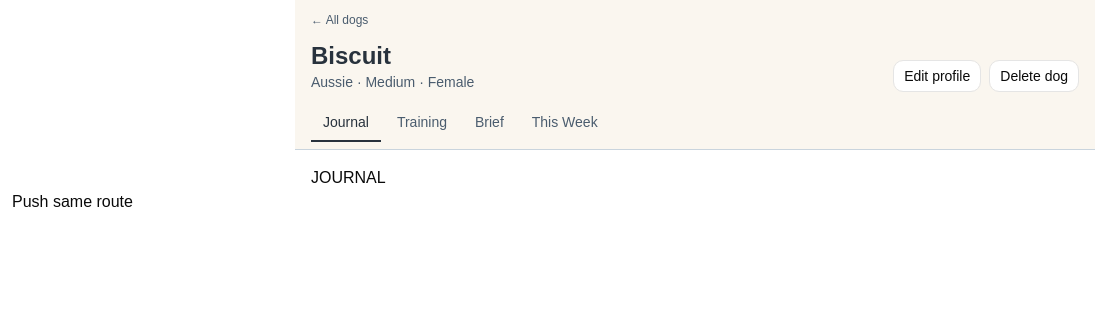
Test: DogLayout › shows inline recovery for an active guided setup deletion conflict
This screenshot has width=1112, height=322.
Click the button "Delete dog" at (1034, 76), box [989,60,1079,92]
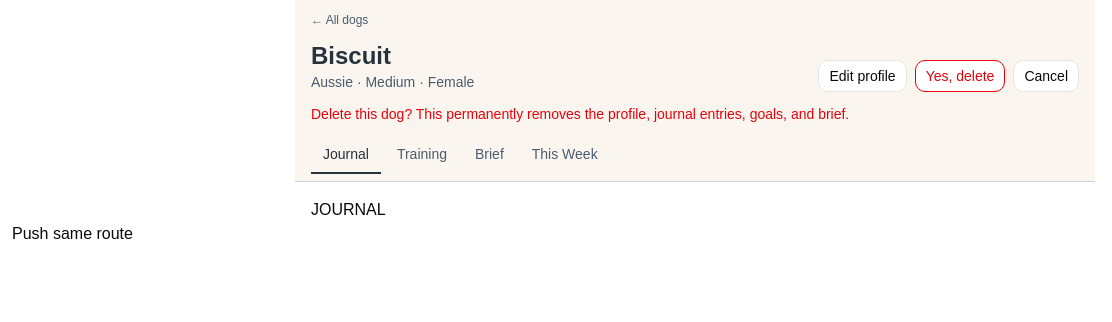
Click the button "Yes, delete" at (960, 76), box [915,60,1005,92]
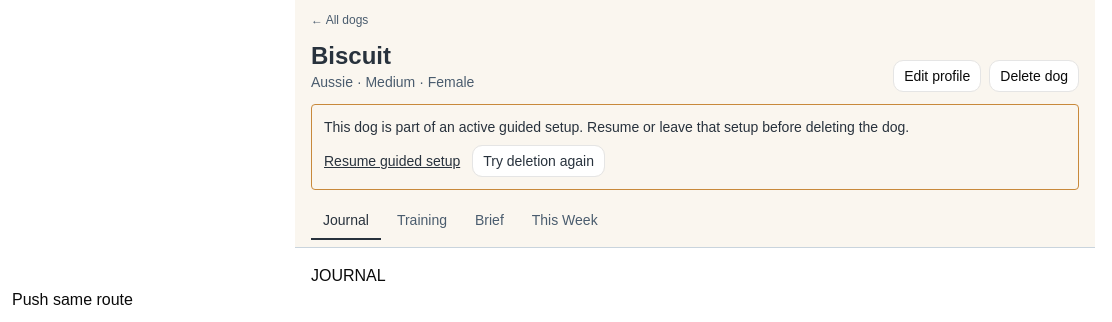
Check: the message is shown, box [311,104,1079,190]
Check: the message shows "guided setup", box [324,119,909,135]
Check: the button "Try deletion again" is shown, box [472,145,605,177]
